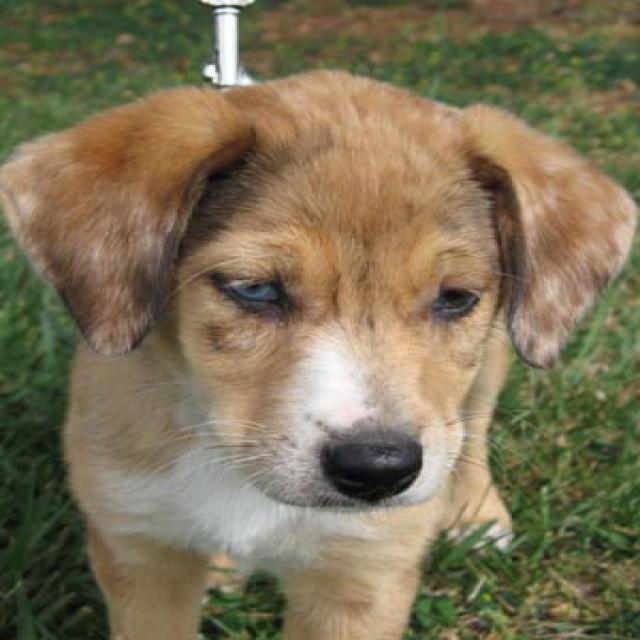Dogs: (0, 67, 638, 638)
